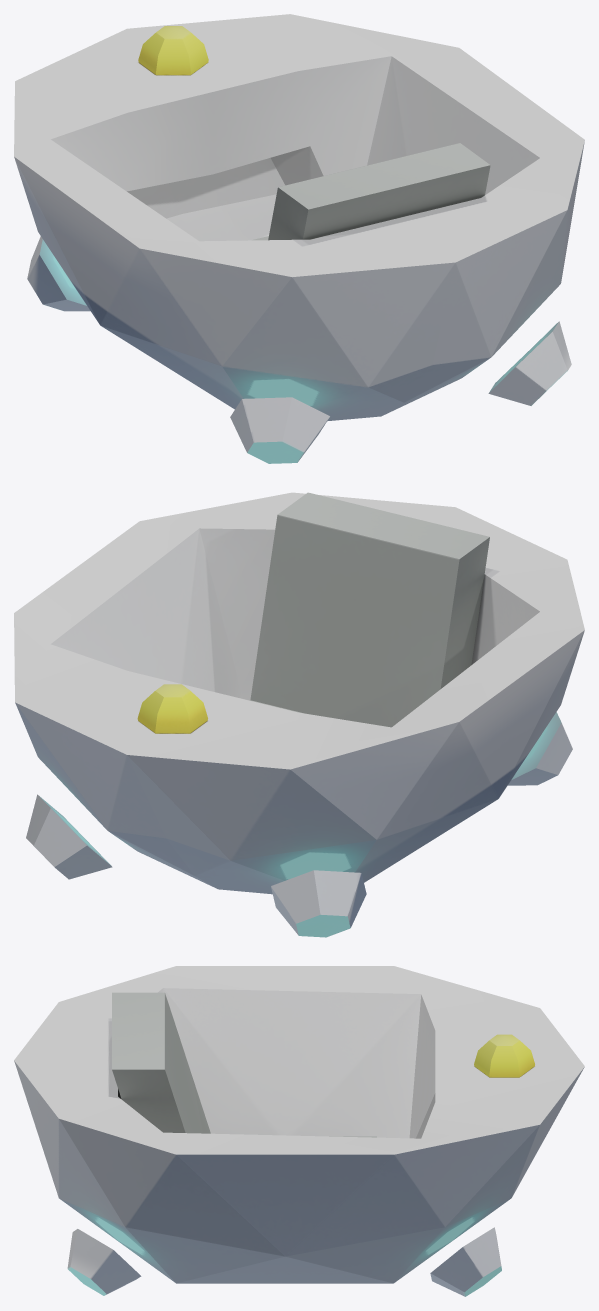
The model's file is podstart.glb.
3 renders of one model, top to bottom at view 1: azimuth 30°, elevation 25°; view 2: azimuth 150°, elevation 25°; view 3: azimuth 270°, elevation 25°, orthographic. The views are drawn at different scales.
Visible parts, largest first — view 1: Time Pod.baked; view 2: Time Pod.baked; view 3: Time Pod.baked.
Part boxes in pixels (bbox=[...]): Time Pod.baked: bbox=[14, 14, 584, 463]; Time Pod.baked: bbox=[14, 492, 584, 937]; Time Pod.baked: bbox=[14, 966, 584, 1296].
Size of the model in its own units: 1.22 by 0.7319 by 1.56.
Materials: 1 (1 with a texture image).
